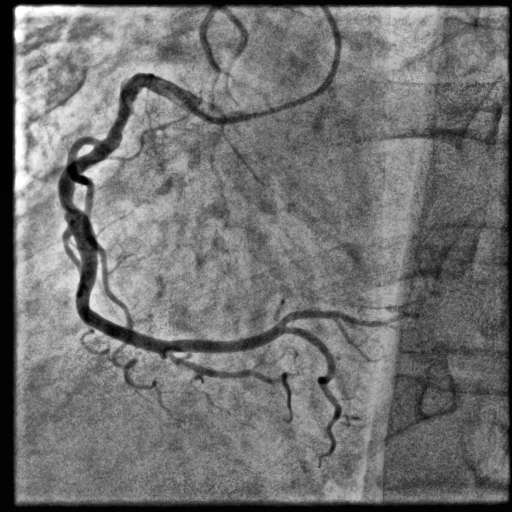pborca: (170, 310, 387, 353)
pda: (163, 353, 272, 384)
rca: (59, 71, 191, 356)
